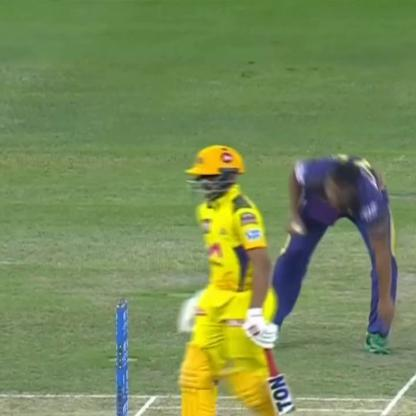ball: (289, 221, 313, 243)
